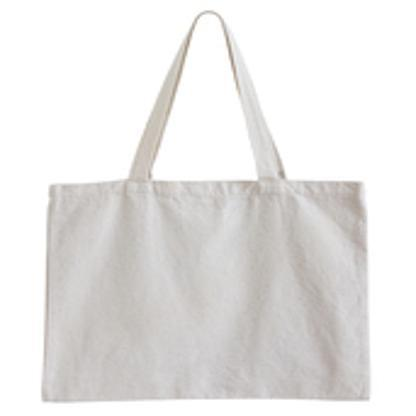not trash: (47, 10, 360, 406)
